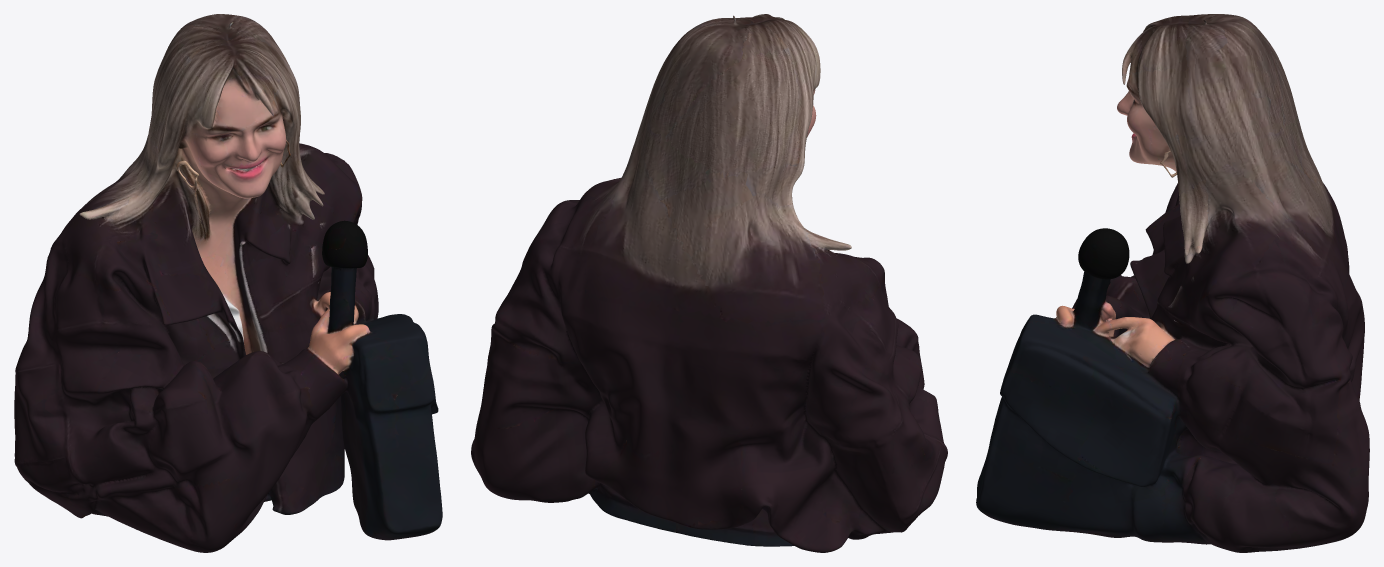
Rendered from Meshy_AI_Smiling_Interview_Mom_1025151941_texture (1).glb.
The picture shows the model from 3 angles, left to right: view 1: azimuth 30°, elevation 25°; view 2: azimuth 150°, elevation 25°; view 3: azimuth 270°, elevation 25°; orthographic projection. The views are drawn at different scales.
Bounding box in the file's own units: 1.64 × 1.9 × 1.48.
Materials: 1 (1 with a texture image).
